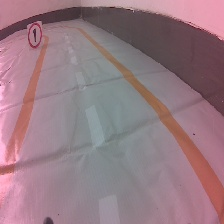limit: (25, 21, 46, 49)
